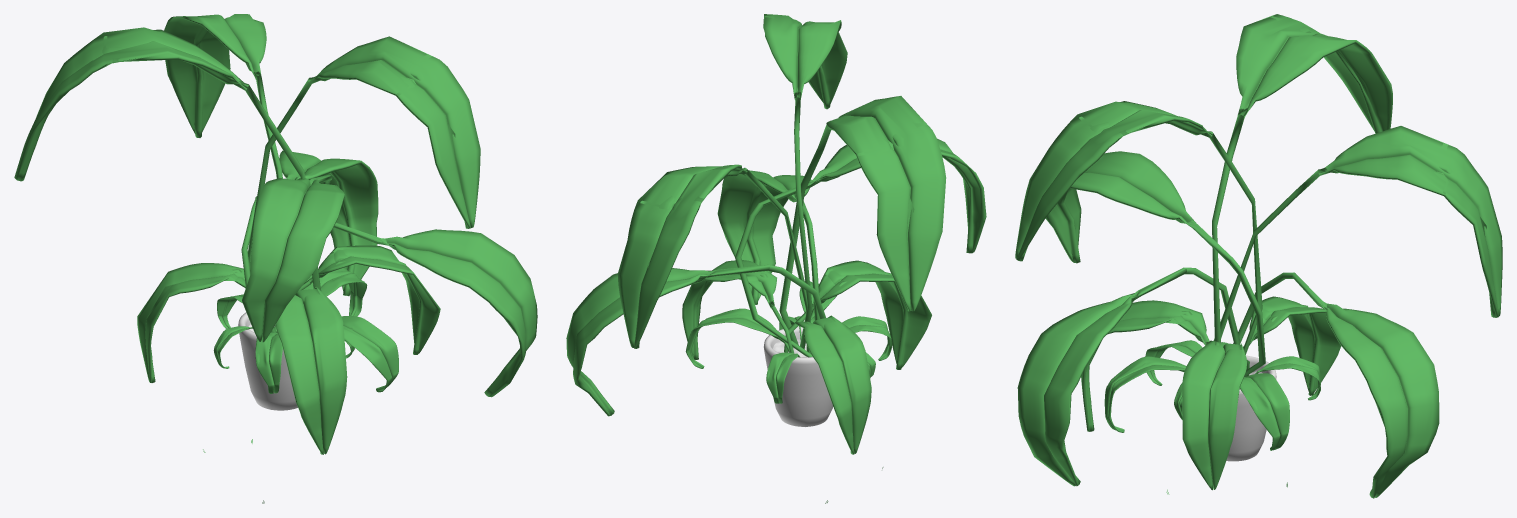
File: dead plant.fbx
The picture shows the model from 3 angles, left to right: view 1: azimuth 30°, elevation 25°; view 2: azimuth 150°, elevation 25°; view 3: azimuth 270°, elevation 25°; orthographic projection. The views are drawn at different scales.
Parts seen in each view (by area): view 1: leaf.019, leaf.021, leaf.017, leaf.003, leaf.018, leaf.020, leaf.016, leaf.015, leaf.001, leaf2.001, pot.002, leaf2.006 (+1 smaller); view 2: leaf.018, leaf.020, leaf.019, leaf.017, leaf.001, leaf.016, leaf.003, leaf.021, pot.002, leaf.015, leaf2.005, leaf2.007 (+1 smaller); view 3: leaf.016, leaf.018, leaf.020, leaf.017, leaf.019, leaf.021, leaf.015, leaf.001, leaf.003, leaf2.005, pot.002, leaf2.001 (+2 smaller).
Part boxes in pixels (x1,y1,x2,y2): leaf.019: [248, 36, 480, 270]; leaf.021: [242, 174, 344, 443]; leaf.017: [203, 222, 537, 452]; leaf.003: [275, 287, 347, 454]; leaf.018: [14, 27, 321, 290]; leaf.020: [164, 14, 282, 332]; leaf.016: [241, 150, 378, 503]; leaf.015: [298, 245, 440, 354]; leaf.001: [137, 263, 245, 382]; leaf2.001: [341, 316, 398, 392]; pot.002: [238, 312, 297, 410]; leaf2.006: [255, 332, 282, 393]; leaf.018: [779, 96, 946, 345]; leaf.020: [617, 164, 810, 353]; leaf.019: [763, 14, 847, 349]; leaf.017: [717, 170, 828, 503]; leaf.001: [795, 315, 871, 454]; leaf.016: [566, 264, 883, 468]; leaf.003: [784, 260, 931, 369]; leaf.021: [735, 138, 986, 357]; pot.002: [763, 326, 833, 427]; leaf.015: [682, 260, 794, 359]; leaf2.005: [685, 308, 789, 368]; leaf2.007: [766, 352, 800, 403]; leaf.016: [1166, 272, 1439, 498]; leaf.018: [1212, 14, 1392, 342]; leaf.020: [1213, 126, 1502, 341]; leaf.017: [1017, 267, 1287, 487]; leaf.019: [1015, 101, 1262, 354]; leaf.021: [1045, 151, 1265, 376]; leaf.015: [1182, 340, 1249, 490]; leaf.001: [1243, 296, 1341, 395]; leaf.003: [1081, 300, 1209, 431]; leaf2.005: [1239, 373, 1289, 450]; pot.002: [1226, 355, 1276, 461]; leaf2.001: [1104, 356, 1186, 432].
Bounding box in the file's own units: 975 × 1095 × 1098.
